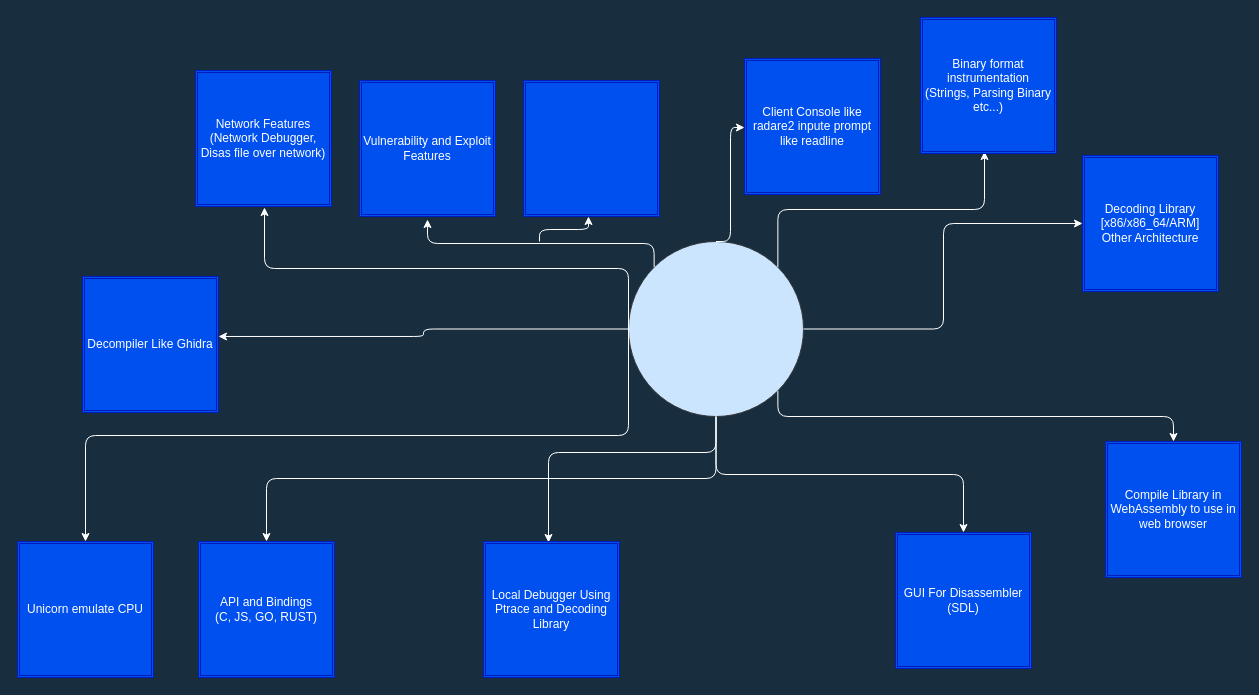
This 1259x695 diagram has some shape labels left out. Each missing label, with the centre of its shape:
"42 Reverse Engineering Project" goes at point 716,328.
"Detect Evasion Techniques, unpacking, Unobfuscate, Cryptography" goes at point 591,148.
